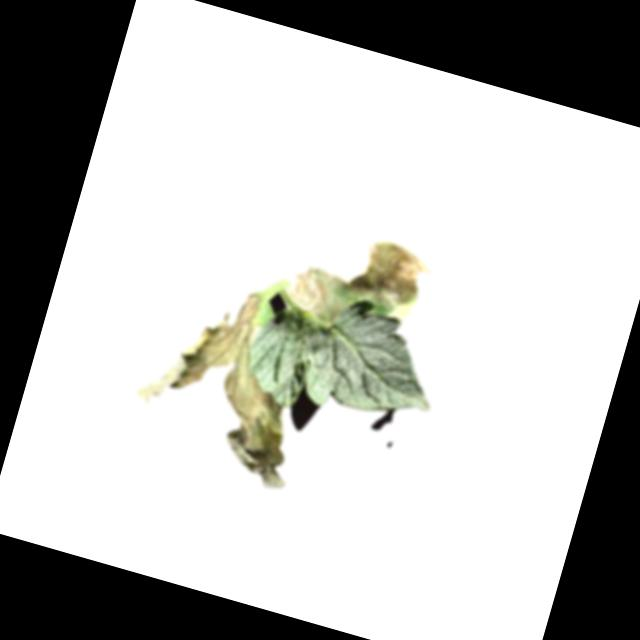Late_blight: (118, 270, 332, 494), (282, 214, 438, 346)
